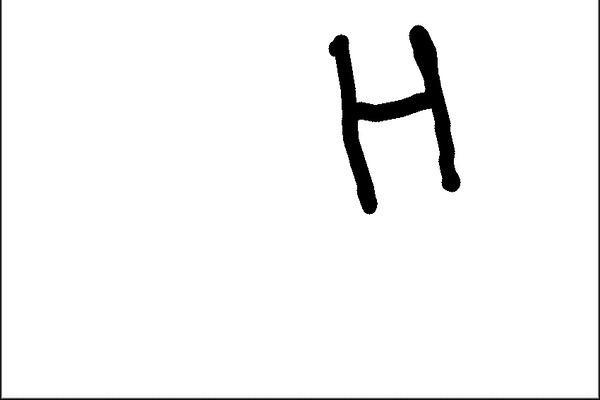H: (324, 21, 473, 215)
